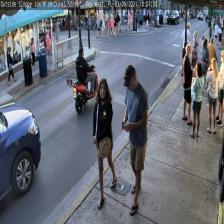person: (122, 65, 148, 215), (92, 78, 116, 208)
